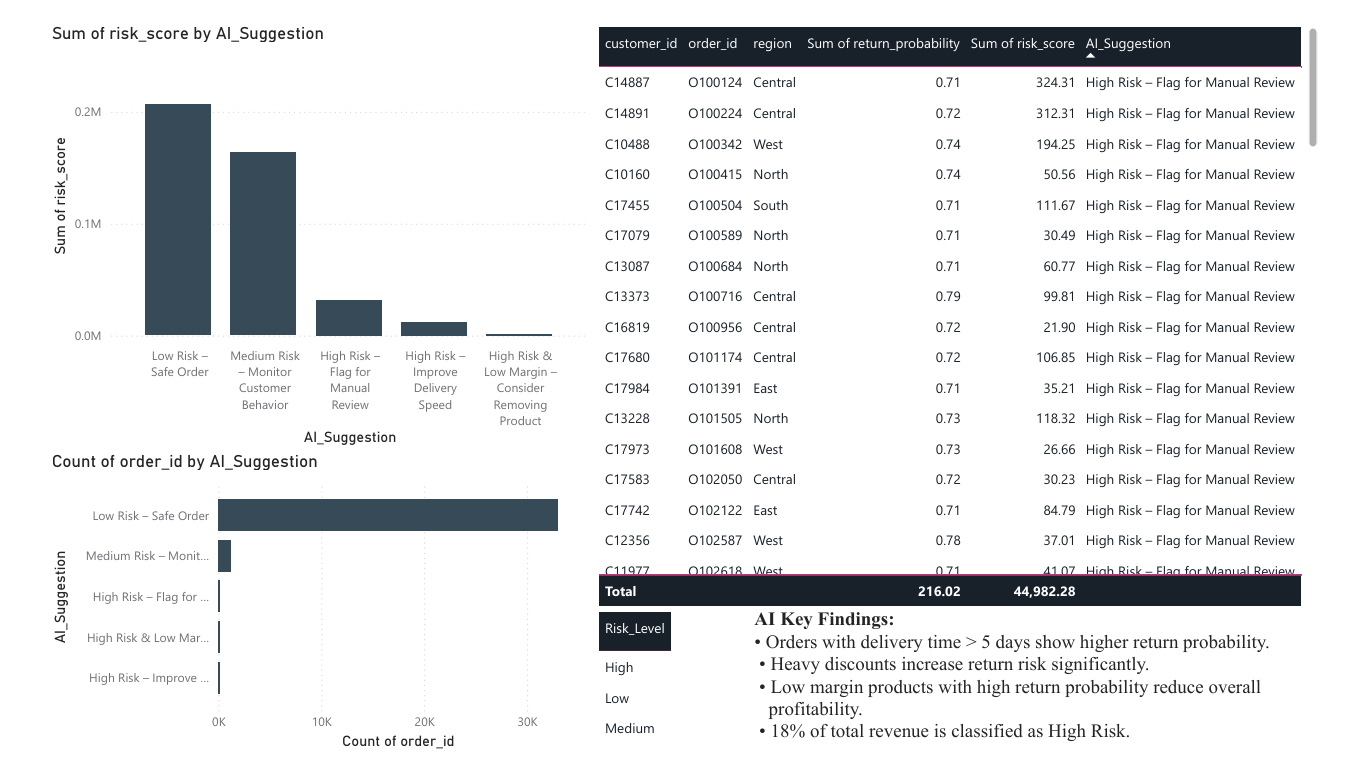

The dashboard page shown, as its layout file describes it:
{"tool":"powerbi","page":{"name":"AI Insights & Recommendations","canvas":[1280,720],"ordinal":2},"visuals":[{"type":"tableEx","fields":{"Values":["ai_output.Risk_Level"]},"box":[562.6,575,150.9,141.3],"z":0},{"type":"textbox","box":[716.3,570.8,564,149.6],"z":3000},{"type":"barChart","fields":{"Category":["ai_output.AI_Suggestion"],"Y":["CountNonNull(ai_output.order_id)"]},"box":[24.7,421.3,537.9,299.1],"z":4000},{"type":"clusteredColumnChart","fields":{"Category":["ai_output.AI_Suggestion"],"Y":["Sum(ai_output.risk_score)"]},"box":[24.7,0,537.9,421.3],"z":4500},{"type":"tableEx","fields":{"Values":["ai_output.customer_id","ai_output.order_id","ai_output.region","Sum(ai_output.return_probability)","Sum(ai_output.risk_score)","ai_output.AI_Suggestion"]},"box":[562.6,0,717.7,579.1],"z":5000}]}

Visuals, with their boxes in screenshot pixels (x1, y1, x2, y2), scaled from the page's 1280x720 canvas onto the 1346x778 screenshot:
tableEx - ai_output.Risk_Level: bbox(592, 621, 750, 774)
textbox: bbox(753, 617, 1345, 777)
barChart - ai_output.AI_Suggestion x CountNonNull(ai_output.order_id): bbox(26, 455, 592, 777)
clusteredColumnChart - ai_output.AI_Suggestion x Sum(ai_output.risk_score): bbox(26, 0, 592, 455)
tableEx - ai_output.customer_id x ai_output.order_id: bbox(592, 0, 1345, 626)
